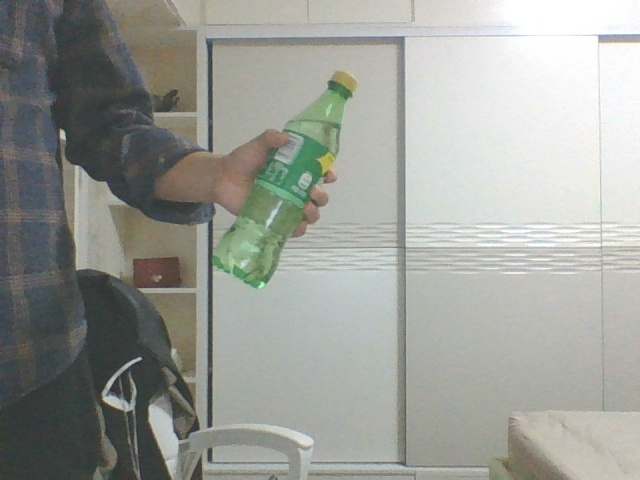Sprite: (214, 73, 356, 287)
